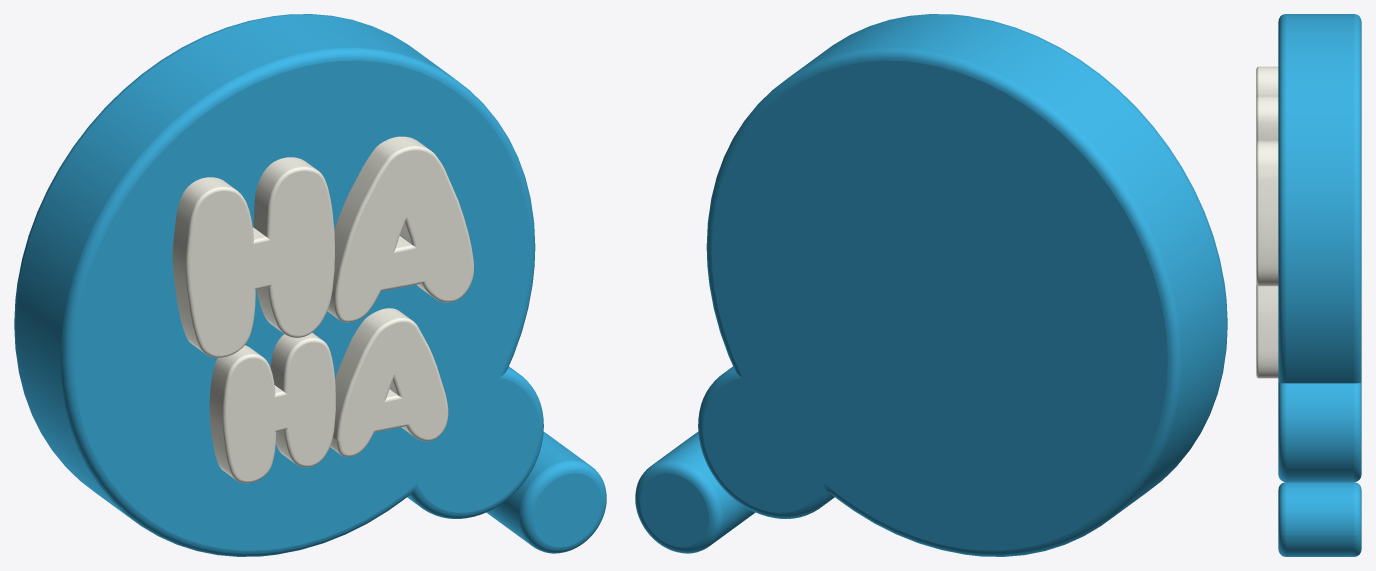
Rendered from haha.glb.
3 views of the same model, side by side, from view 1: azimuth 30°, elevation 25°; view 2: azimuth 150°, elevation 25°; view 3: azimuth 270°, elevation 25° (orthographic). The views are drawn at different scales.
Bounding box in the file's own units: 633 × 624 × 140.
